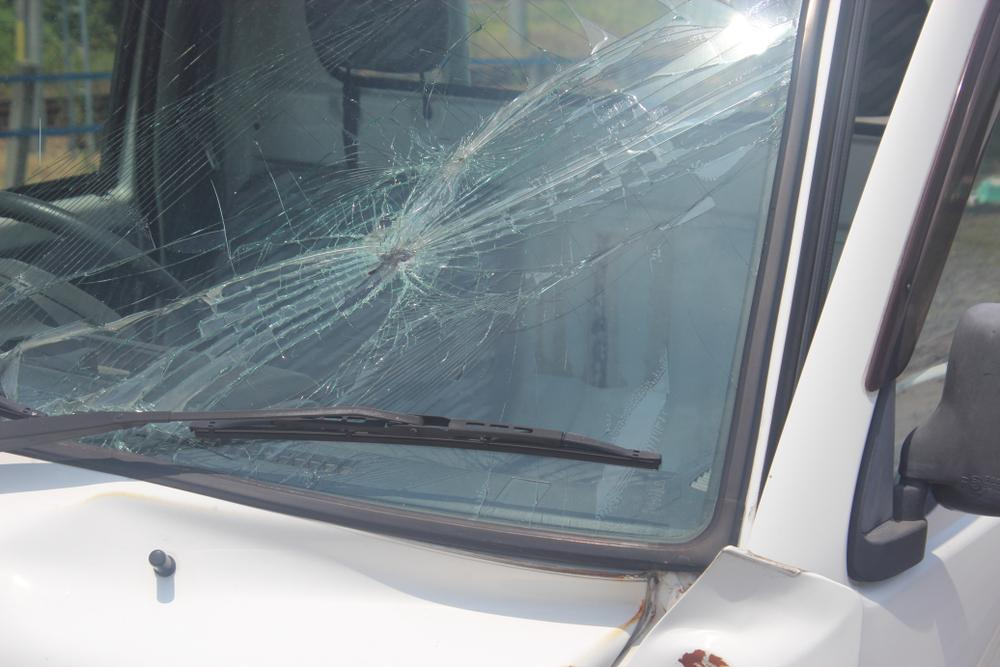glass shatter: (0, 0, 804, 541)
